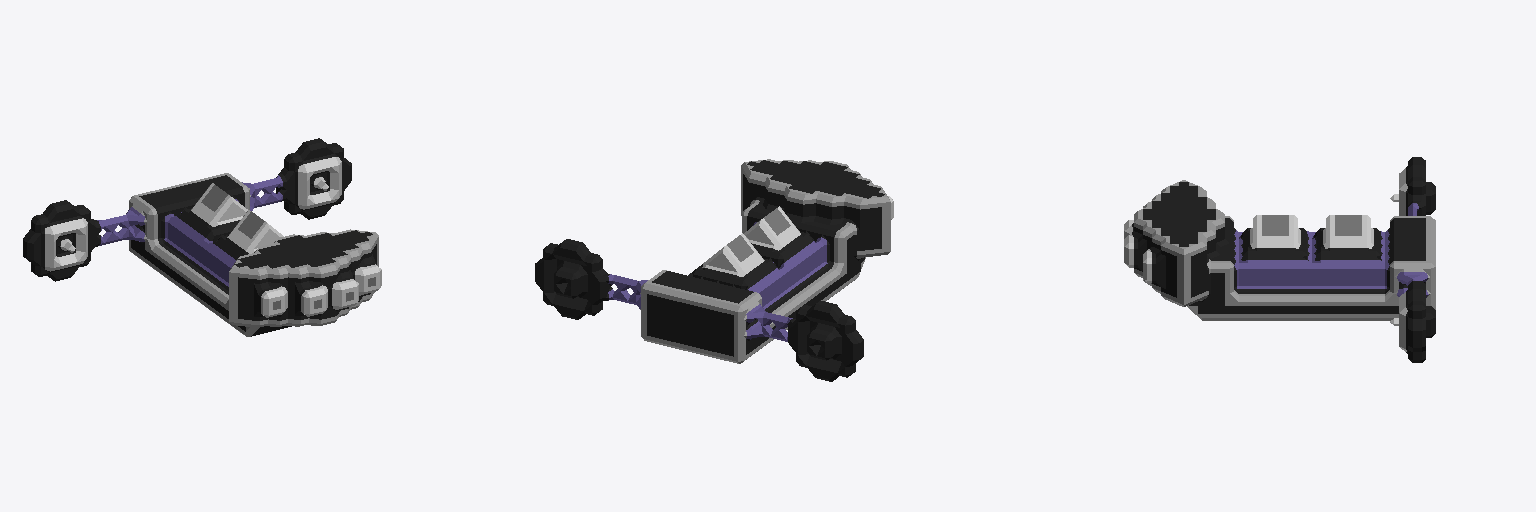
The picture shows the model from 3 angles: view 1: azimuth 30°, elevation 25°; view 2: azimuth 150°, elevation 25°; view 3: azimuth 270°, elevation 25°; orthographic projection.
Bounding box in the file's own units: 41 × 10 × 34.
Materials: 1 (1 with a texture image).